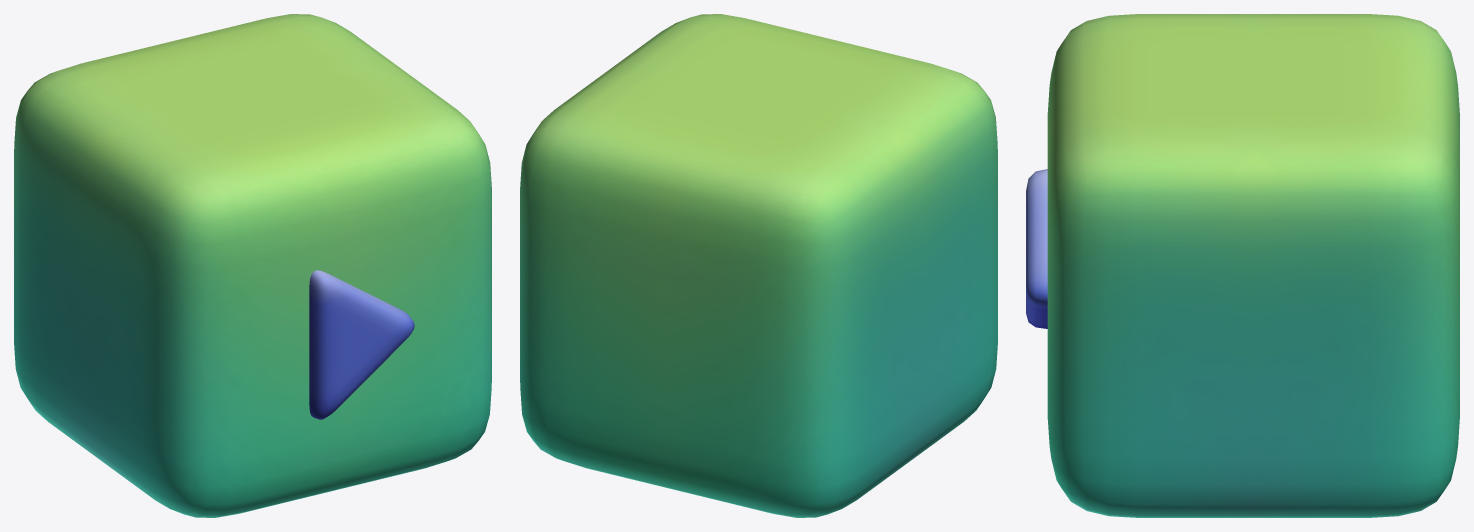
The model's file is fangkuai.FBX.
3 views of the same model, side by side, from view 1: azimuth 30°, elevation 25°; view 2: azimuth 150°, elevation 25°; view 3: azimuth 270°, elevation 25° (orthographic). The views are drawn at different scales.
Parts seen in each view (by area): view 1: fangkuai; view 2: fangkuai; view 3: fangkuai.
Boxes of the visible parts, x1=… form: fangkuai: x1=14, y1=14, x2=491, y2=517; fangkuai: x1=520, y1=14, x2=997, y2=517; fangkuai: x1=1026, y1=14, x2=1459, y2=517.
Size of the model in its own units: 50 by 50 by 52.63.
